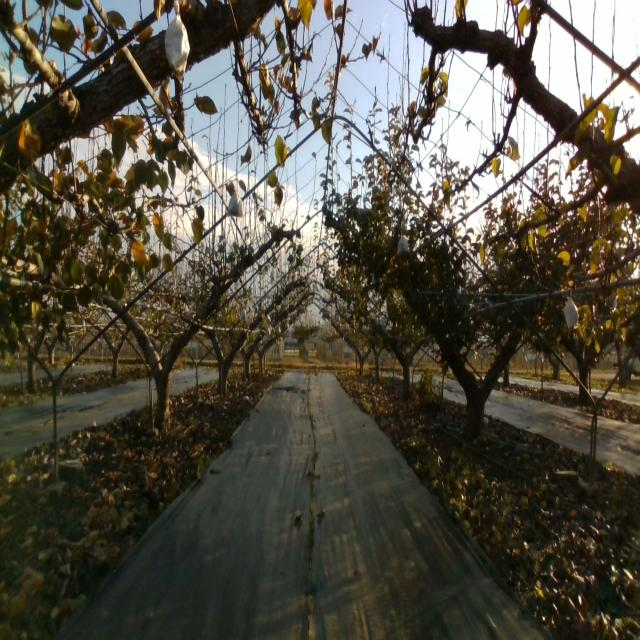pearbags: (164, 0, 191, 82), (564, 296, 579, 328), (226, 192, 244, 218), (396, 238, 410, 255)
